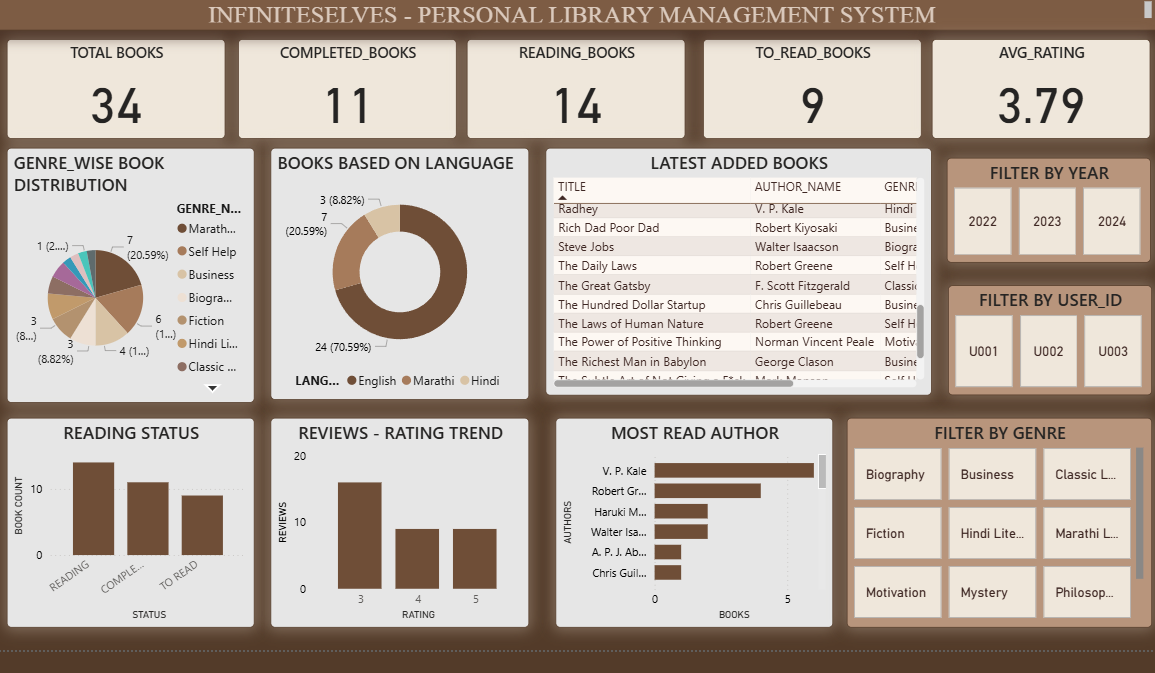

This screenshot's page, from the dashboard's own definition file:
{"tool":"powerbi","page":{"name":"Page 1","canvas":[1280,720],"ordinal":0},"visuals":[{"type":"card","title":"TOTAL BOOKS","fields":{"Values":["Books.Totalbook"]},"box":[15.1,49.4,240.1,109.8],"z":0},{"type":"card","title":"COMPLETED_BOOKS","fields":{"Values":["UserBooks.BooksCompleted"]},"box":[269,49.4,240.1,109.8],"z":1000},{"type":"card","title":"READING_BOOKS","fields":{"Values":["UserBooks.BooksReading"]},"box":[520.1,49.4,240.1,109.8],"z":2000},{"type":"card","title":"TO_READ_BOOKS","fields":{"Values":["UserBooks.BooksToRead"]},"box":[779.4,49.4,240.1,109.8],"z":3000},{"type":"pieChart","title":"GENRE_WISE BOOK DISTRIBUTION","fields":{"Category":["Genres.GENRE_NAME"],"Y":["CountNonNull(Books.BOOK_ID)"]},"box":[15.1,168.8,271.7,279.9],"z":4000},{"type":"columnChart","title":"READING STATUS","fields":{"Category":["UserBooks.STATUS"],"Y":["CountNonNull(UserBooks.USERBOOK_ID)"]},"box":[15.1,465.2,271.7,230.5],"z":5000},{"type":"advancedSlicerVisual","title":"FILTER BY USER_ID","fields":{"Values":["UserBooks.USER_ID"]},"box":[1048.4,319.7,223.7,120.8],"z":6000},{"type":"donutChart","title":"BOOKS BASED ON LANGUAGE","fields":{"Category":["Books.LANGUAGE"],"Y":["CountNonNull(Books.BOOK_ID)"]},"box":[304.6,168.8,284,277.2],"z":7000},{"type":"barChart","title":"MOST READ AUTHOR","fields":{"Category":["Authors.AUTHOR_NAME"],"Y":["CountNonNull(Books.BOOK_ID)"]},"box":[617.5,465.2,304.6,230.5],"z":8000},{"type":"columnChart","title":"REVIEWS - RATING TREND","fields":{"Category":["Reviews.RATING"],"Y":["CountNonNull(Reviews.REVIEW_ID)"]},"box":[304.6,465.2,284,230.5],"z":9000},{"type":"tableEx","title":"LATEST ADDED BOOKS","fields":{"Values":["Books.TITLE","Authors.AUTHOR_NAME","Genres.GENRE_NAME","Books.AddedDate_Display"]},"box":[606.5,168.8,424,271.7],"z":10000},{"type":"advancedSlicerVisual","title":"FILTER BY GENRE","fields":{"Values":["Genres.GENRE_NAME"]},"box":[937.2,465.2,334.8,230.5],"z":11000},{"type":"advancedSlicerVisual","title":"FILTER BY YEAR","fields":{"Values":["Books.Year"]},"box":[1047,179.8,223.7,115.3],"z":12000},{"type":"textbox","box":[0,0,1280.3,39.8],"z":13000},{"type":"card","title":"AVG_RATING","fields":{"Values":["Reviews.AvgRating"]},"box":[1030.5,49.4,240.1,109.8],"z":14000}]}

Visuals, with their boxes in screenshot pixels (x1, y1, x2, y2):
"TOTAL BOOKS" card: 10, 47, 224, 145
"COMPLETED_BOOKS" card: 236, 47, 450, 145
"READING_BOOKS" card: 460, 47, 673, 145
"TO_READ_BOOKS" card: 691, 47, 904, 145
"GENRE_WISE BOOK DISTRIBUTION" pieChart: 10, 153, 252, 402
"READING STATUS" columnChart: 10, 417, 252, 622
"FILTER BY USER_ID" advancedSlicerVisual: 930, 288, 1129, 395
"BOOKS BASED ON LANGUAGE" donutChart: 268, 153, 521, 400
"MOST READ AUTHOR" barChart: 546, 417, 818, 622
"REVIEWS - RATING TREND" columnChart: 268, 417, 521, 622
"LATEST ADDED BOOKS" tableEx: 537, 153, 914, 395
"FILTER BY GENRE" advancedSlicerVisual: 831, 417, 1129, 622
"FILTER BY YEAR" advancedSlicerVisual: 929, 163, 1128, 266
textbox: 0, 3, 1136, 38
"AVG_RATING" card: 914, 47, 1128, 145
